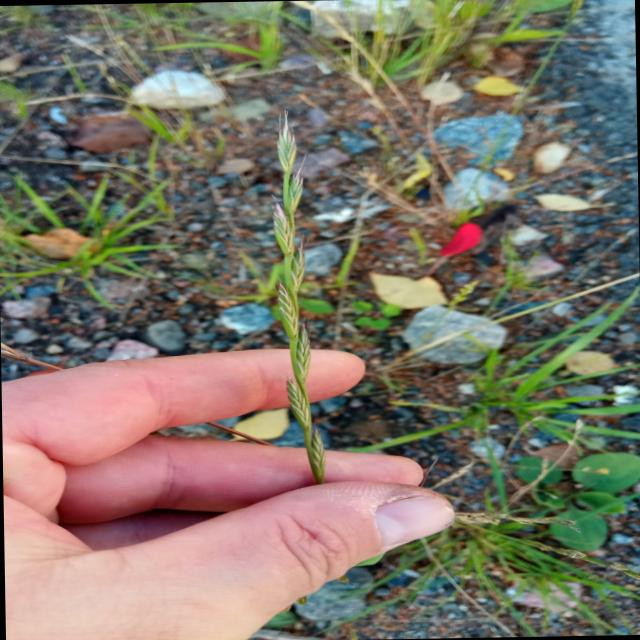Lolium: (260, 108, 332, 485)
